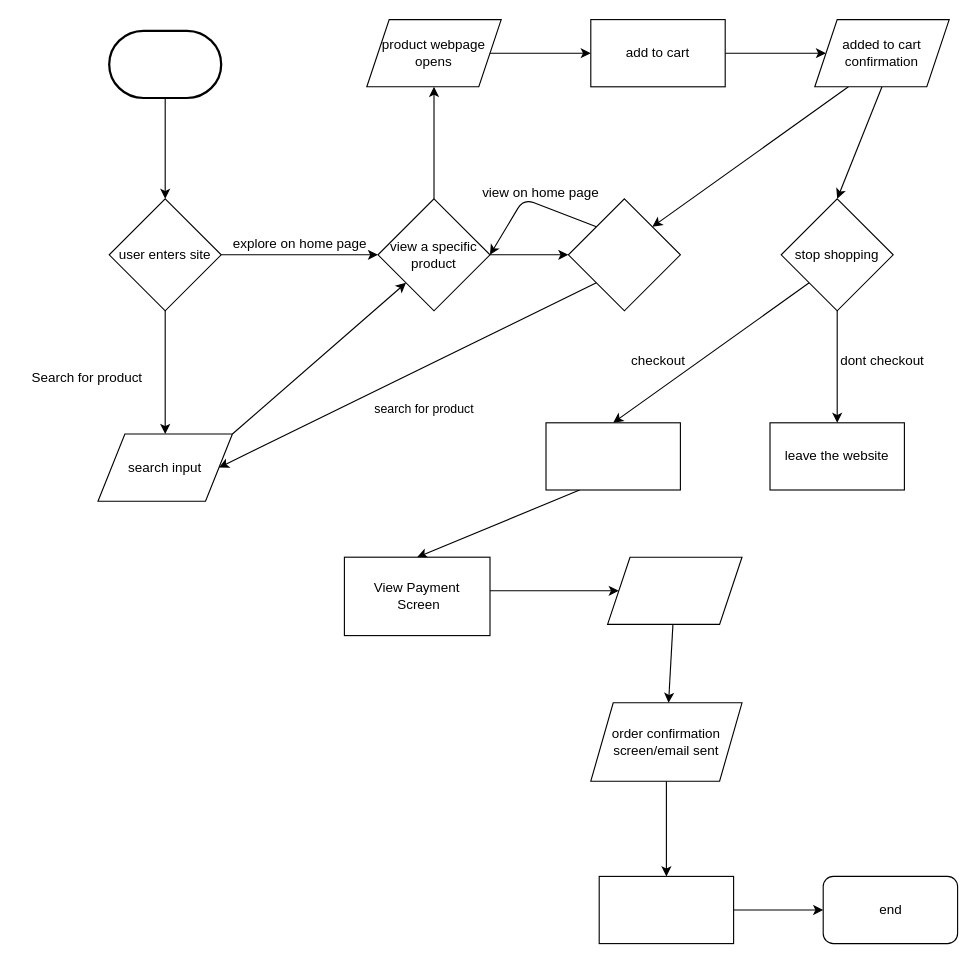
Image size: 977x963. Some labels were removed from this diagram. Here are the shapes that lost their labels. From the top down, the centre of each, then its label:
(x=165, y=64): Start
(x=623, y=254): continue shopping
(x=612, y=456): View Cart Screen
(x=674, y=590): User payment information
(x=666, y=909): user leaves website
